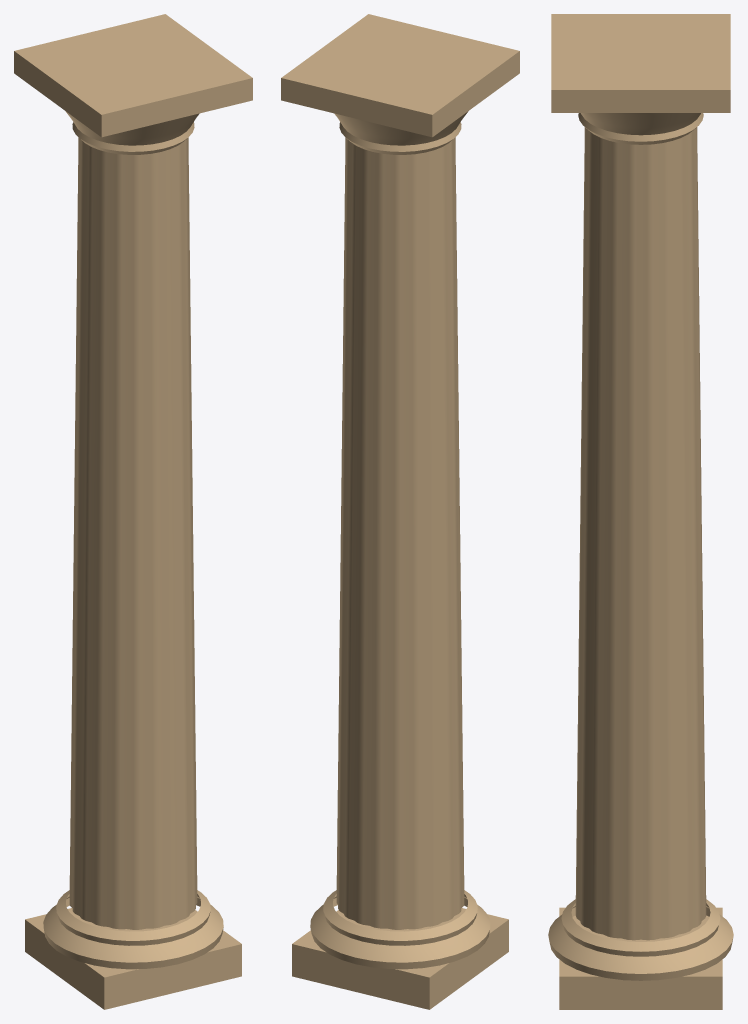
The model's file is column_hall.glb.
3 renders of one model, left to right at view 1: azimuth 30°, elevation 25°; view 2: azimuth 150°, elevation 25°; view 3: azimuth 270°, elevation 25°, orthographic. The views are drawn at different scales.
Parts seen in each view (by area): view 1: column_hall; view 2: column_hall; view 3: column_hall.
Part boxes in pixels (left/top/right/bottom): column_hall: left=14, top=14, right=252, bottom=1009; column_hall: left=281, top=14, right=519, bottom=1009; column_hall: left=548, top=14, right=733, bottom=1009.
Size of the model in its own units: 1.82 by 9.99 by 1.82.
